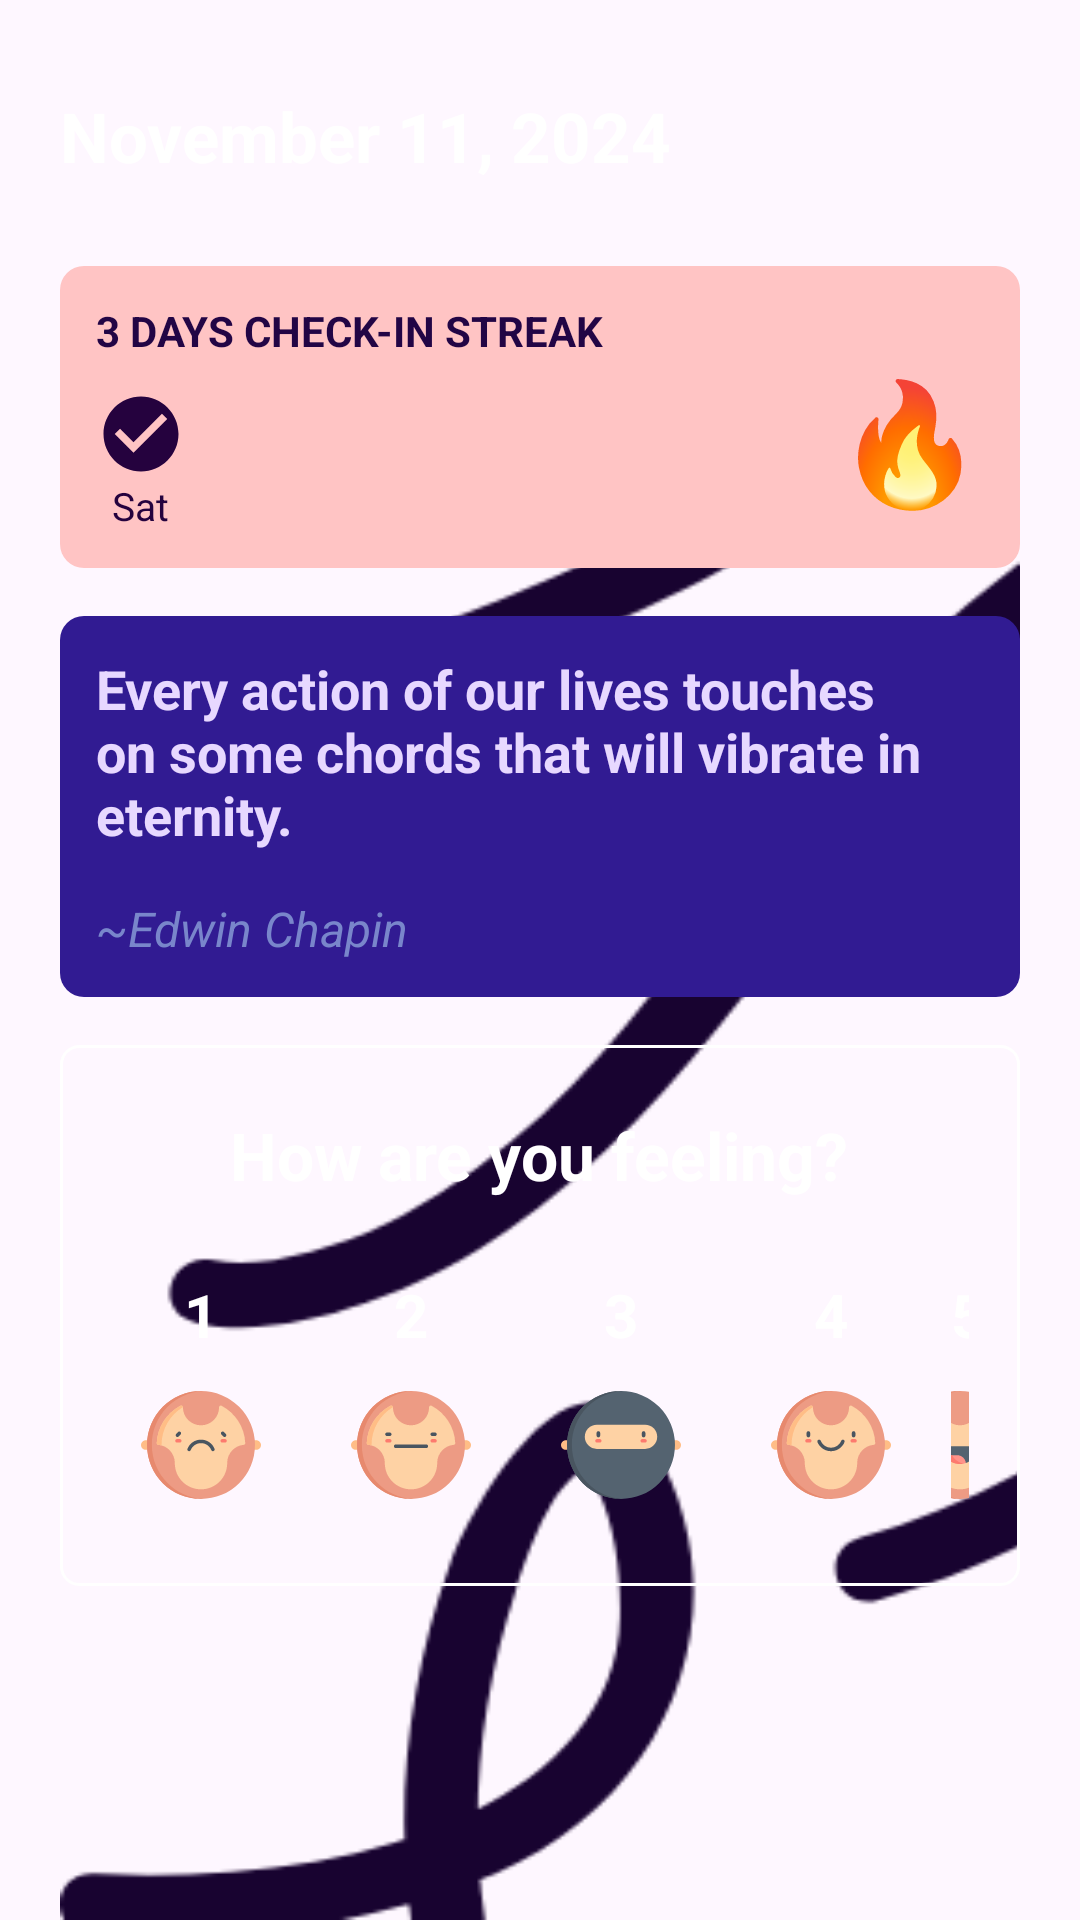

Point at icon controls on the screen. Image size 1080 × 1920, points as [x,y].
check circle: [141,434]
